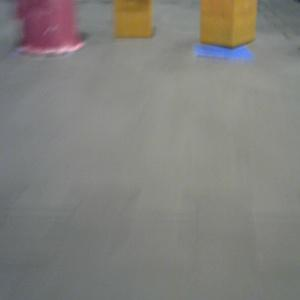middle: (11, 1, 86, 55)
